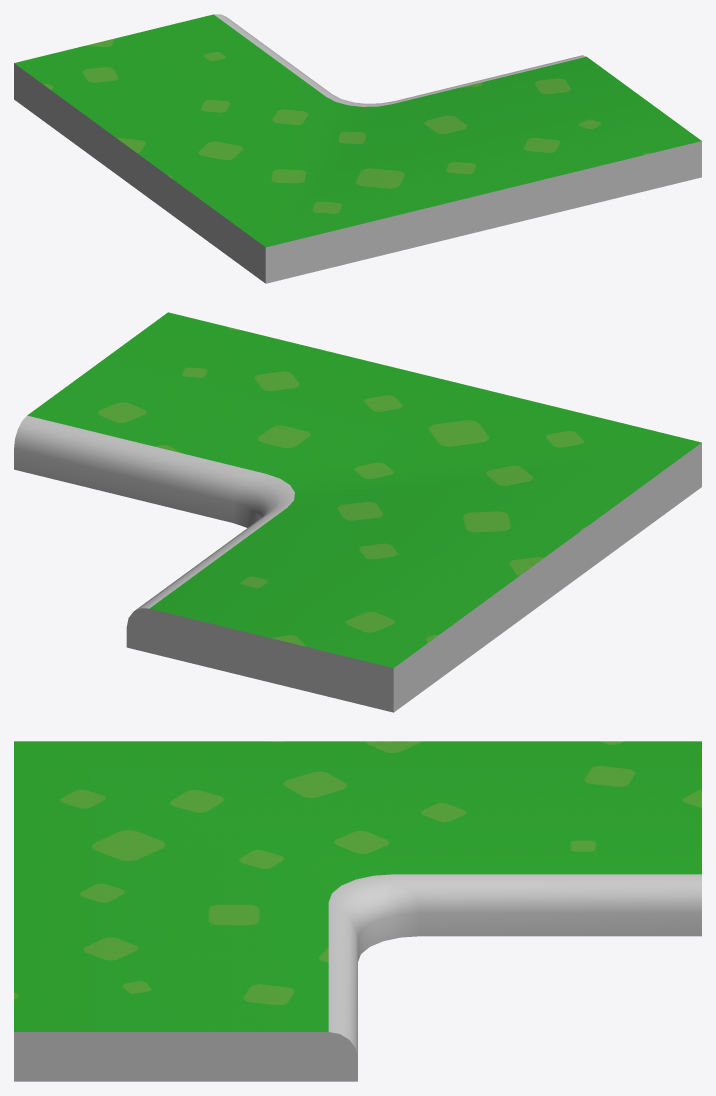
File: GrassFloor_InnerCorner_3.fbx
3 views of the same model, one above another, from view 1: azimuth 30°, elevation 25°; view 2: azimuth 150°, elevation 25°; view 3: azimuth 270°, elevation 25° (orthographic). The views are drawn at different scales.
Visible parts, largest first — view 1: GrassFloor_InnerCorner_3; view 2: GrassFloor_InnerCorner_3; view 3: GrassFloor_InnerCorner_3.
Part boxes in pixels (x1,y1,x2,y2): GrassFloor_InnerCorner_3: (14, 14, 701, 283); GrassFloor_InnerCorner_3: (14, 312, 701, 712); GrassFloor_InnerCorner_3: (14, 741, 701, 1081).
Bounding box in the file's own units: 4 × 0.3187 × 4.
